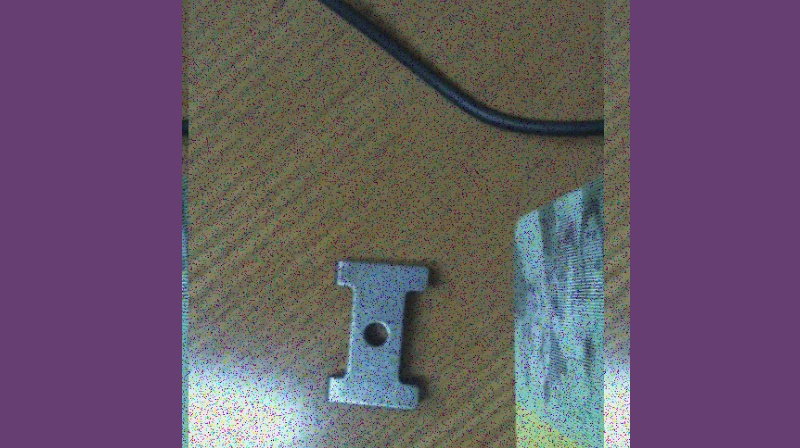O002: (326, 253, 431, 413)
